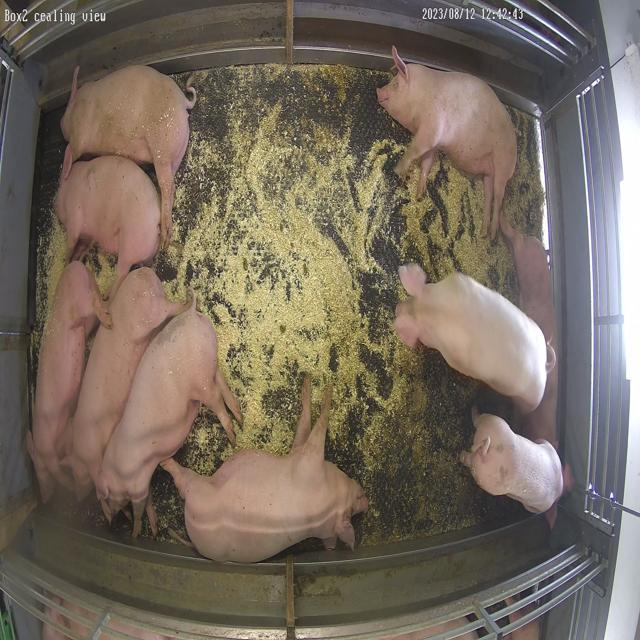Dirt: (358, 351, 496, 544)
Pig: (161, 379, 369, 564), (95, 302, 242, 536), (68, 267, 187, 500), (378, 46, 518, 238), (61, 65, 196, 246), (395, 266, 549, 414), (27, 261, 106, 502), (55, 155, 161, 294), (462, 416, 565, 514), (502, 217, 555, 344), (521, 362, 559, 446)
